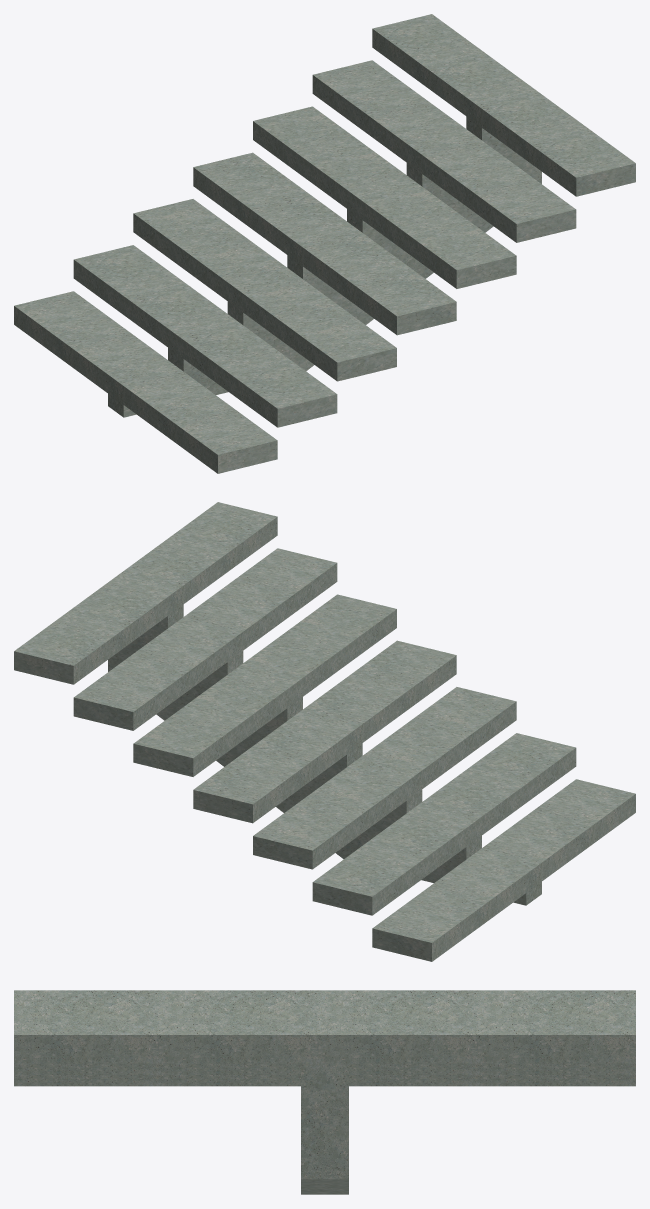
File: Soupnewstairs001.glb
The picture shows the model from 3 angles, top to bottom: view 1: azimuth 30°, elevation 25°; view 2: azimuth 150°, elevation 25°; view 3: azimuth 270°, elevation 25°; orthographic projection. The views are drawn at different scales.
Visible parts, largest first — view 1: Soupnewstairs001_high_1; view 2: Soupnewstairs001_high_1; view 3: Soupnewstairs001_high_1.
Part boxes in pixels (<box>): Soupnewstairs001_high_1: <box>14,14,635,473</box>; Soupnewstairs001_high_1: <box>14,502,635,961</box>; Soupnewstairs001_high_1: <box>14,990,635,1194</box>.
Bounding box in the file's own units: 2.6 × 1.32 × 2.2.
1 material, 1 textured.
